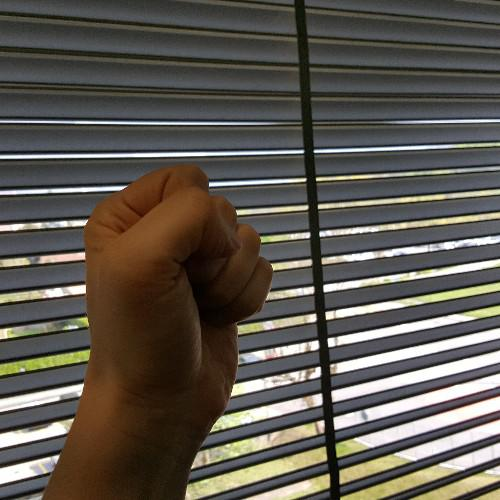rock: (76, 156, 284, 430)
